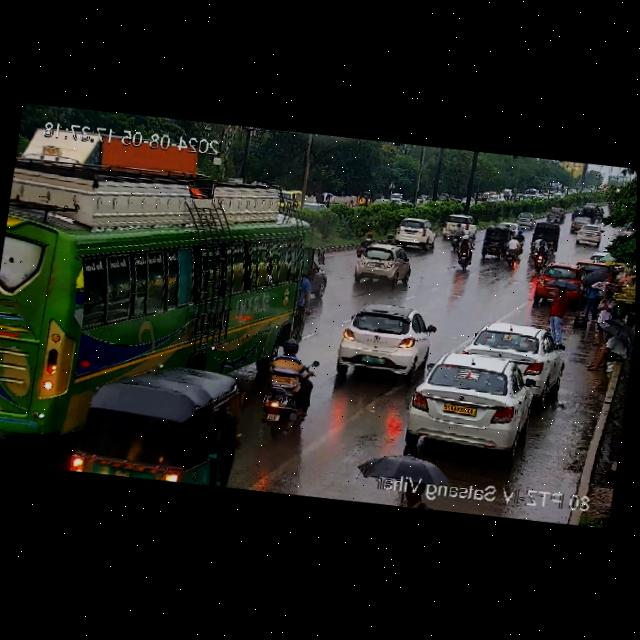bus: (0, 141, 332, 388)
car: (80, 353, 251, 451), (404, 347, 537, 454), (329, 298, 435, 387), (463, 316, 563, 392), (349, 238, 415, 287), (530, 261, 586, 305), (390, 215, 440, 251), (479, 223, 512, 261), (440, 212, 474, 239), (574, 225, 603, 246), (567, 213, 591, 237), (514, 210, 538, 228), (544, 205, 565, 223)
motorcycle: (257, 336, 325, 441), (588, 280, 624, 351), (442, 228, 477, 272), (528, 219, 562, 258), (500, 233, 524, 265), (447, 222, 469, 251)
person: (543, 283, 585, 345), (581, 325, 633, 375)
